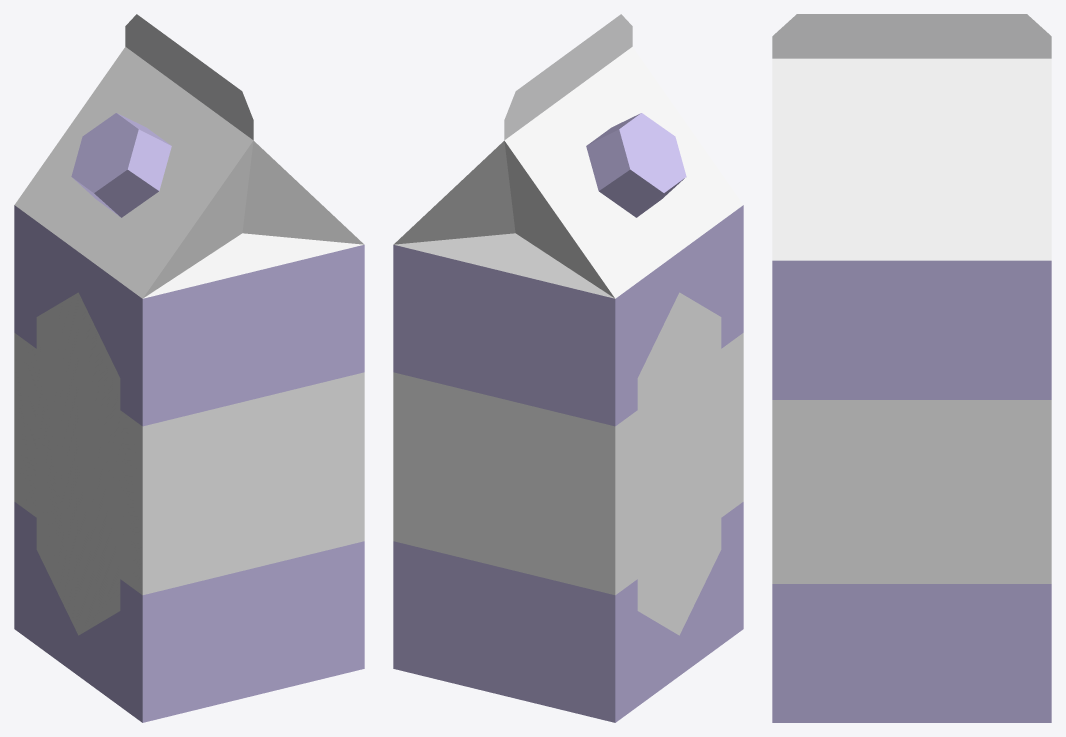
Rendered from carton.fbx.
3 views of the same model, side by side, from view 1: azimuth 30°, elevation 25°; view 2: azimuth 150°, elevation 25°; view 3: azimuth 270°, elevation 25° (orthographic). The views are drawn at different scales.
Visible parts, largest first — view 1: carton; view 2: carton; view 3: carton.
Part boxes in pixels (x1,y1,x2,y2): carton: (14,14,364,722); carton: (393,14,743,722); carton: (772,14,1051,722).
Bounding box in the file's own units: 23 × 59.05 × 23.
